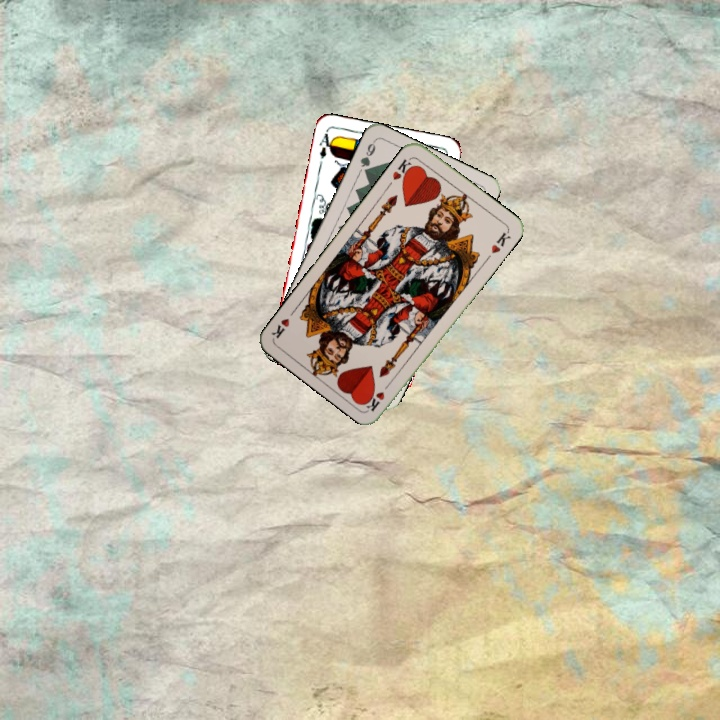EA: (315, 128, 336, 161)
G9: (356, 137, 378, 178)
HK: (363, 377, 394, 413), (388, 155, 417, 184)
